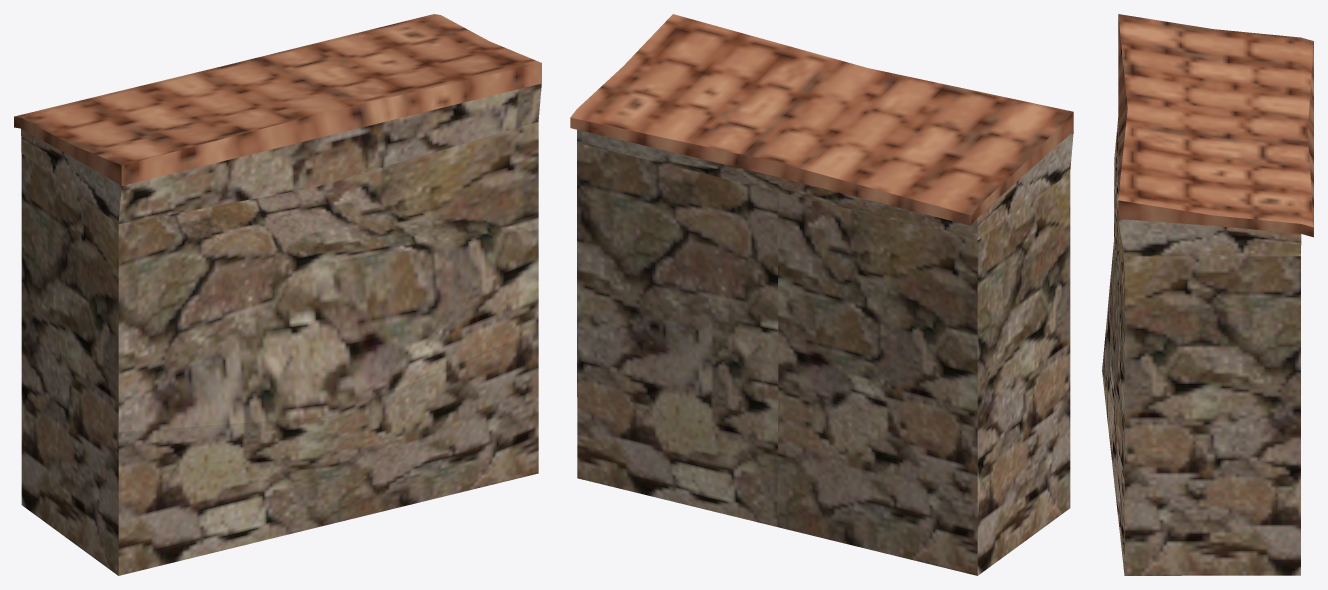
File: Urban_DrystoneWallHalfTiles_Model.fbx
3 views of the same model, side by side, from view 1: azimuth 30°, elevation 25°; view 2: azimuth 150°, elevation 25°; view 3: azimuth 270°, elevation 25° (orthographic). The views are drawn at different scales.
Parts seen in each view (by area): view 1: Urban_DrystoneWallHalfTiles_Mesh; view 2: Urban_DrystoneWallHalfTiles_Mesh; view 3: Urban_DrystoneWallHalfTiles_Mesh.
Boxes of the visible parts, x1=… form: Urban_DrystoneWallHalfTiles_Mesh: x1=14, y1=14, x2=541, y2=575; Urban_DrystoneWallHalfTiles_Mesh: x1=570, y1=14, x2=1073, y2=575; Urban_DrystoneWallHalfTiles_Mesh: x1=1102, y1=14, x2=1313, y2=575.
Bounding box in the file's own units: 1 × 0.9398 × 0.4805.
